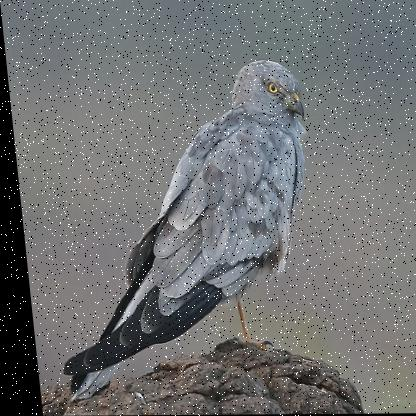Burung: (29, 59, 324, 402)
